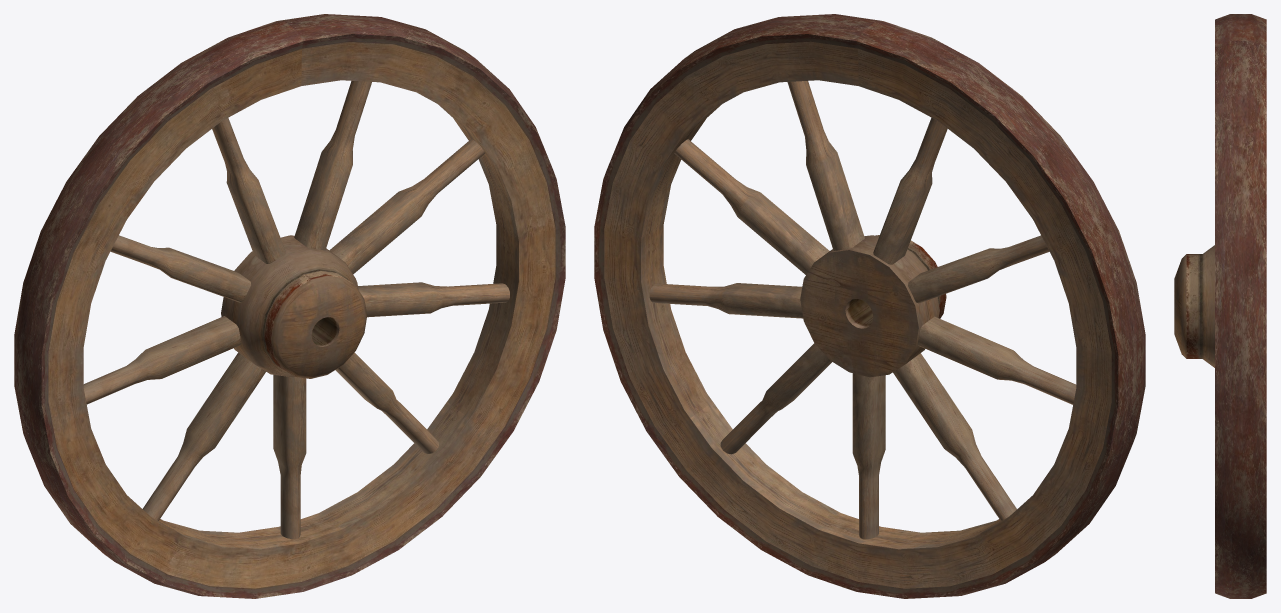
File: SM_Wagon_Wheel_01.glb
3 views of the same model, side by side, from view 1: azimuth 30°, elevation 25°; view 2: azimuth 150°, elevation 25°; view 3: azimuth 270°, elevation 25° (orthographic). The views are drawn at different scales.
Parts seen in each view (by area): view 1: SM_Wagon_Wheel_01; view 2: SM_Wagon_Wheel_01; view 3: SM_Wagon_Wheel_01.
Boxes of the visible parts, box(x1,y1,x2,y2) form: SM_Wagon_Wheel_01: box(14, 14, 565, 598); SM_Wagon_Wheel_01: box(594, 14, 1145, 598); SM_Wagon_Wheel_01: box(1174, 14, 1266, 598).
Size of the model in its own units: 1.29 by 1.3 by 0.2048.
1 material, 1 textured.
